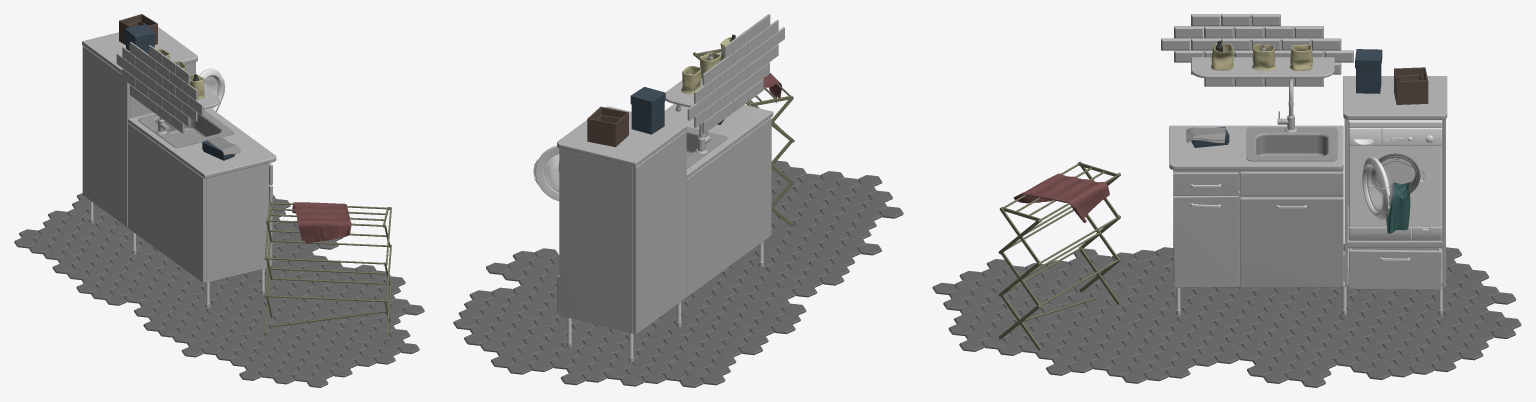
The model's file is washing_machine_home.glb.
3 renders of one model, left to right at view 1: azimuth 30°, elevation 25°; view 2: azimuth 150°, elevation 25°; view 3: azimuth 270°, elevation 25°, orthographic. The views are drawn at different scales.
Visible parts, largest first — view 1: polySurface154, polySurface147, polySurface248, pPlane20, pCube67, pCube80, pCube84; view 2: polySurface154, polySurface147, pCube80, pCube84, polySurface248, pCube67, new:polySurface127, cl3, polySurface170, new:polySurface118; view 3: polySurface177, polySurface147, polySurface175, new:polySurface132, polySurface248, polySurface179, pCube67, polySurface154, polySurface180, polySurface170, pPlane20, polySurface173 (+15 smaller).
Boxes of the visible parts, x1=… form: polySurface154: x1=82, y1=46, x2=268, y2=282; polySurface147: x1=82, y1=27, x2=276, y2=178; polySurface248: x1=264, y1=201, x2=391, y2=340; pPlane20: x1=292, y1=202, x2=351, y2=243; pCube67: x1=137, y1=110, x2=234, y2=147; pCube80: x1=125, y1=24, x2=155, y2=54; pCube84: x1=119, y1=14, x2=157, y2=44; polySurface154: x1=559, y1=118, x2=771, y2=334; polySurface147: x1=557, y1=104, x2=773, y2=178; pCube80: x1=630, y1=87, x2=665, y2=134; pCube84: x1=587, y1=106, x2=628, y2=147; polySurface248: x1=693, y1=49, x2=794, y2=226; pCube67: x1=686, y1=127, x2=727, y2=168; new:polySurface127: x1=535, y1=145, x2=559, y2=201; cl3: x1=681, y1=66, x2=701, y2=94; polySurface170: x1=665, y1=51, x2=721, y2=107; new:polySurface118: x1=544, y1=154, x2=559, y2=192; polySurface177: x1=1240, y1=197, x2=1343, y2=287; polySurface147: x1=1169, y1=76, x2=1447, y2=170; polySurface175: x1=1173, y1=196, x2=1239, y2=287; new:polySurface132: x1=1348, y1=145, x2=1442, y2=227; polySurface248: x1=998, y1=161, x2=1120, y2=350; polySurface179: x1=1348, y1=249, x2=1441, y2=289; pCube67: x1=1246, y1=127, x2=1337, y2=161; polySurface154: x1=1173, y1=119, x2=1445, y2=286; polySurface180: x1=1240, y1=171, x2=1343, y2=195; polySurface170: x1=1191, y1=57, x2=1334, y2=78; pPlane20: x1=1013, y1=173, x2=1109, y2=222; polySurface173: x1=1173, y1=172, x2=1238, y2=195.
Size of the model in its own units: 59.81 by 50.85 by 102.
